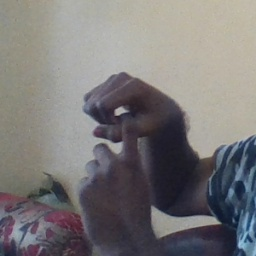Q: (72, 67, 176, 204)
